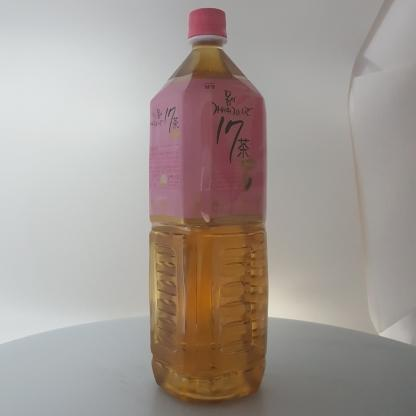--17-----1-5L: (149, 8, 268, 404)
